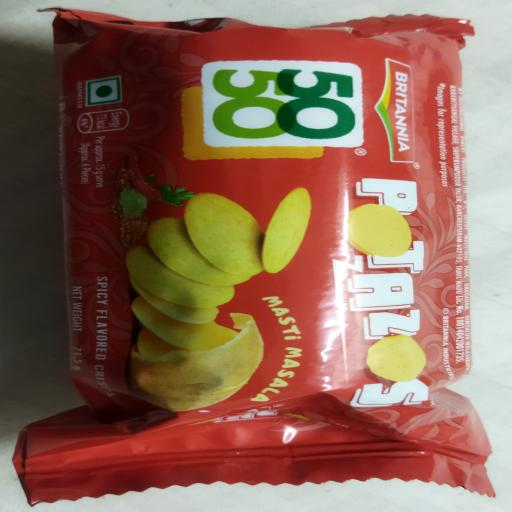potazos: (21, 7, 512, 507)
